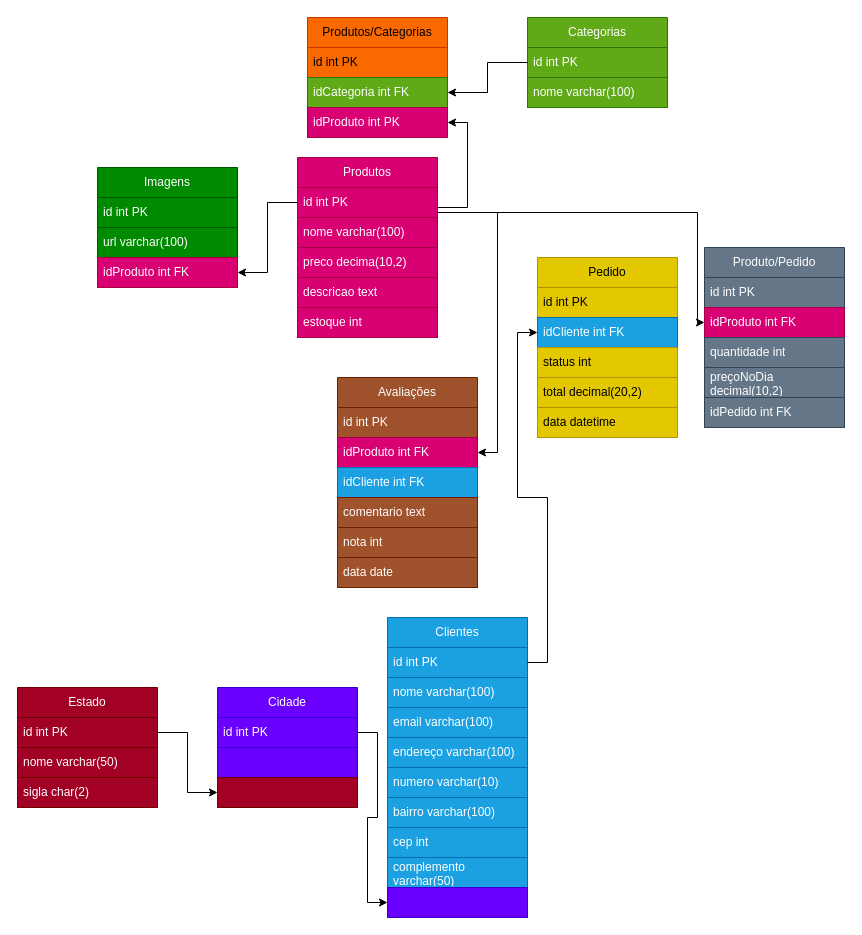
Some shapes in this 862 by 935 pixel diagram are drawn without their labels. The centre of each missing label's shape, as x and y in pixels:
"idCidade int FK" goes at point 457,902.
"idEstado int FK" goes at point 287,792.
"nome varcahr(100)" goes at point 287,762.
